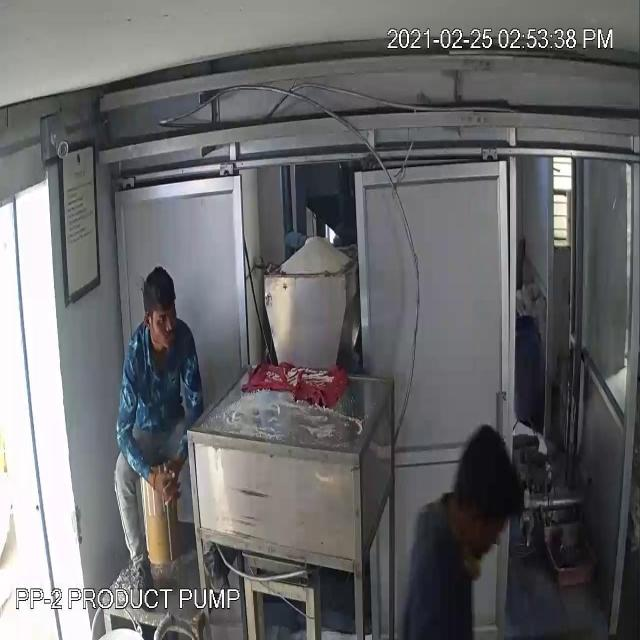no-helmet: (140, 262, 180, 330)
